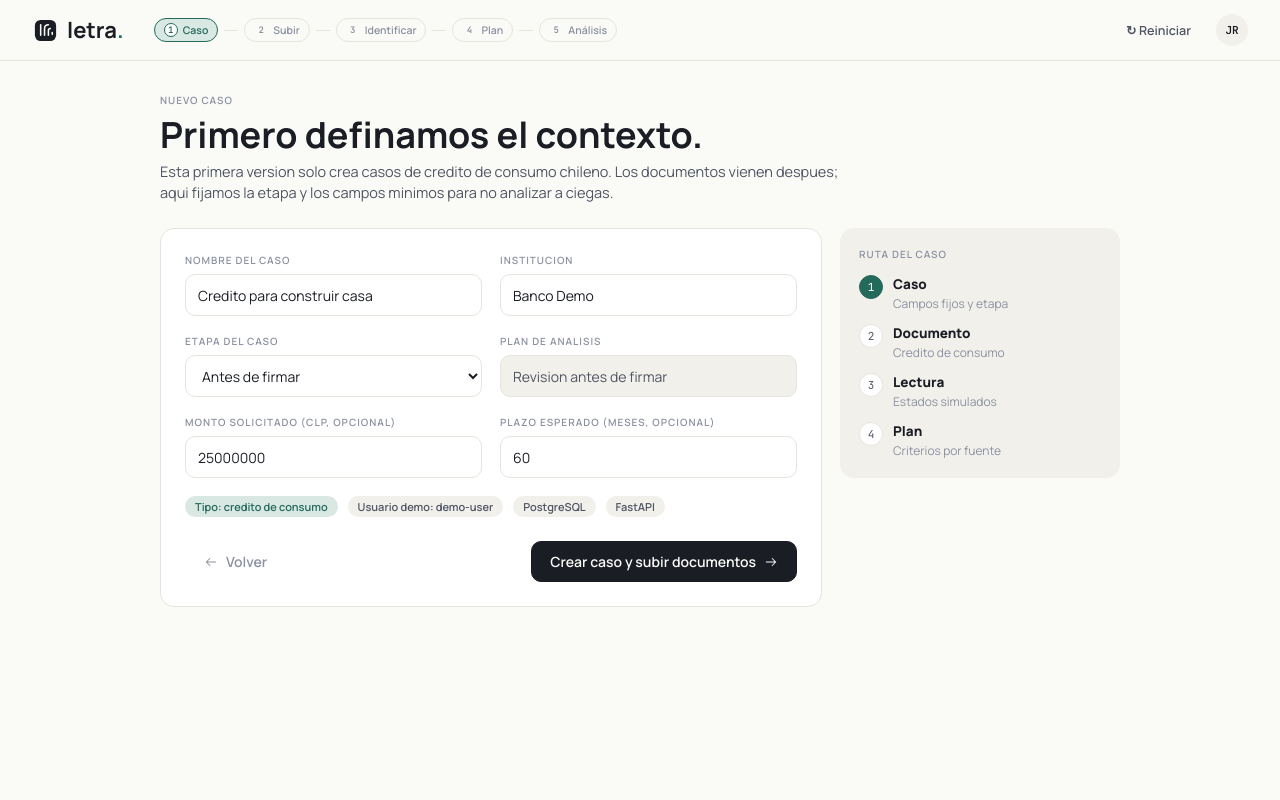
it: CaseSetup › validates required lean fields before submitting
This screenshot has width=1280, height=800.
Step 1. Clear the field labelled "Nombre del caso" → {"x": 334, "y": 295}, box [185, 274, 482, 316]
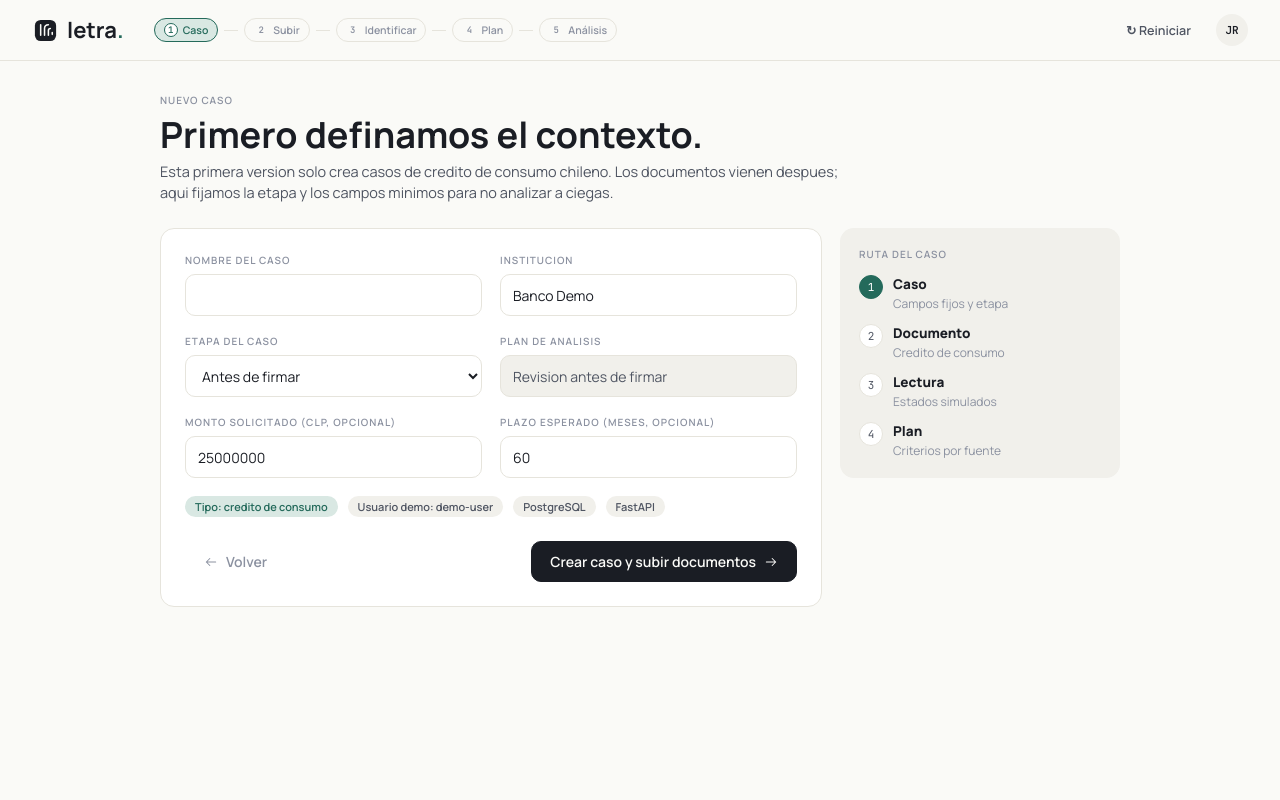
Step 2. Click the button "Crear caso y subir documentos" → {"x": 664, "y": 562}, box [531, 541, 797, 582]
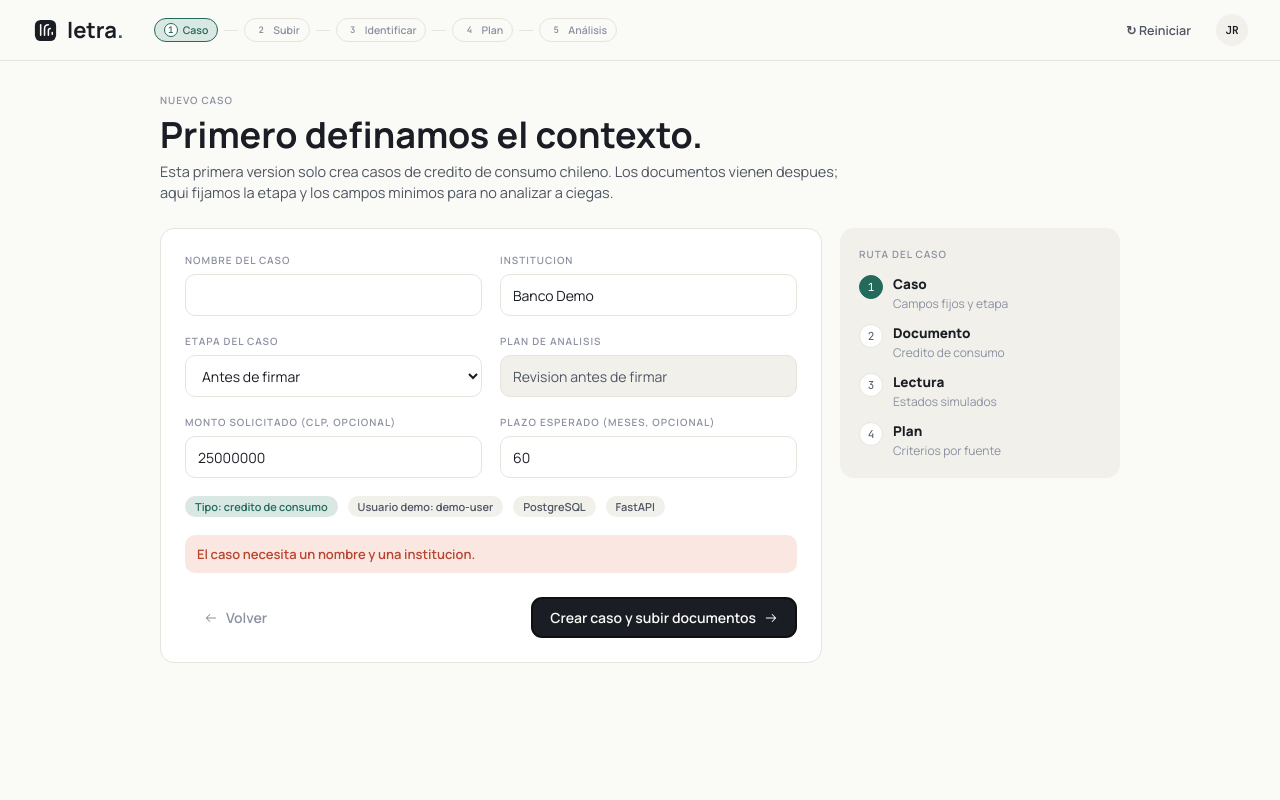
Check: the text "El caso necesita un nombre y una institucion." is shown, box [185, 535, 797, 573]
